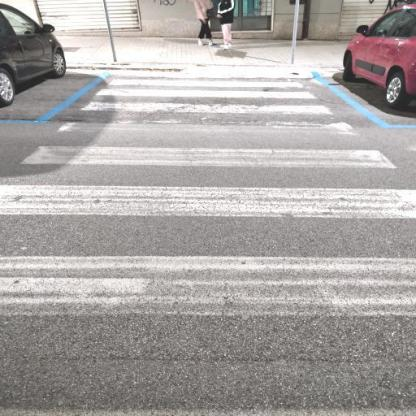crosswalk: (19, 118, 403, 180), (94, 76, 320, 102)
